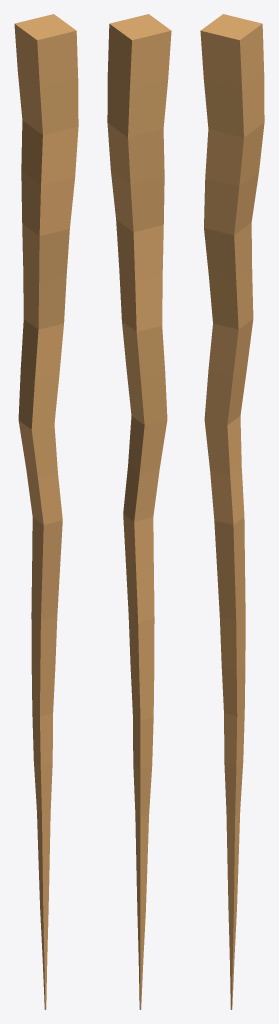
The model's file is branch_20seg.fbx.
3 renders of one model, left to right at view 1: azimuth 30°, elevation 25°; view 2: azimuth 210°, elevation 25°; view 3: azimuth 330°, elevation 25°, orthographic.
Parts seen in each view (by area): view 1: branch_20seg; view 2: branch_20seg; view 3: branch_20seg.
Boxes of the visible parts, x1=… form: branch_20seg: x1=14, y1=14, x2=78, y2=1009; branch_20seg: x1=107, y1=14, x2=171, y2=1009; branch_20seg: x1=200, y1=14, x2=264, y2=1009.
Bounding box in the file's own units: 274 × 5962 × 251.
